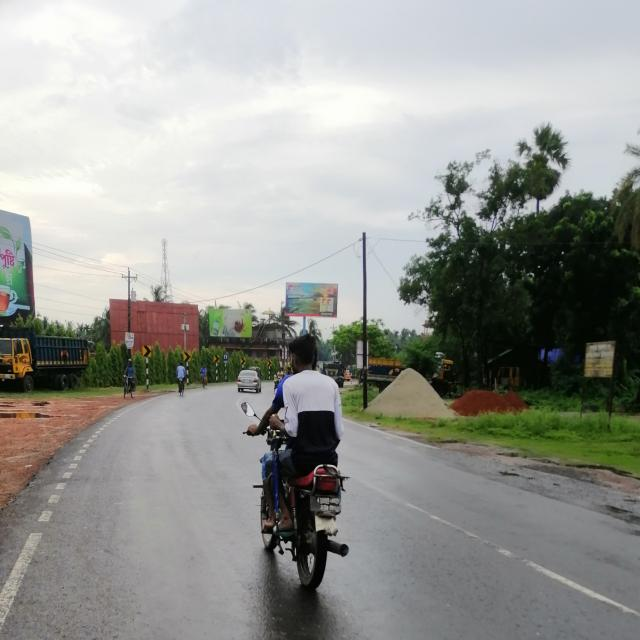Bicycle: (123, 376, 141, 406)
Car: (235, 369, 263, 399)
Motorbike: (233, 400, 366, 606)
Truck: (1, 320, 92, 396)
